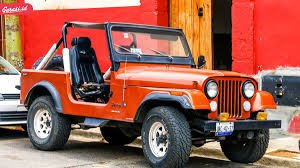mobil: (21, 19, 275, 157)
